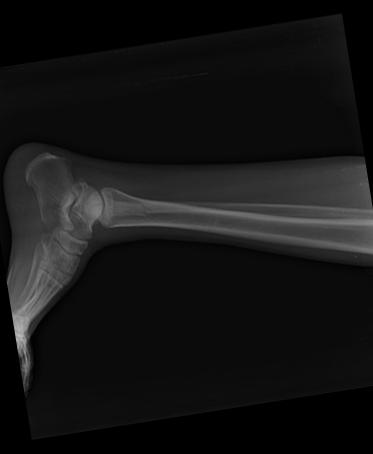fractured: (133, 198, 153, 219)
